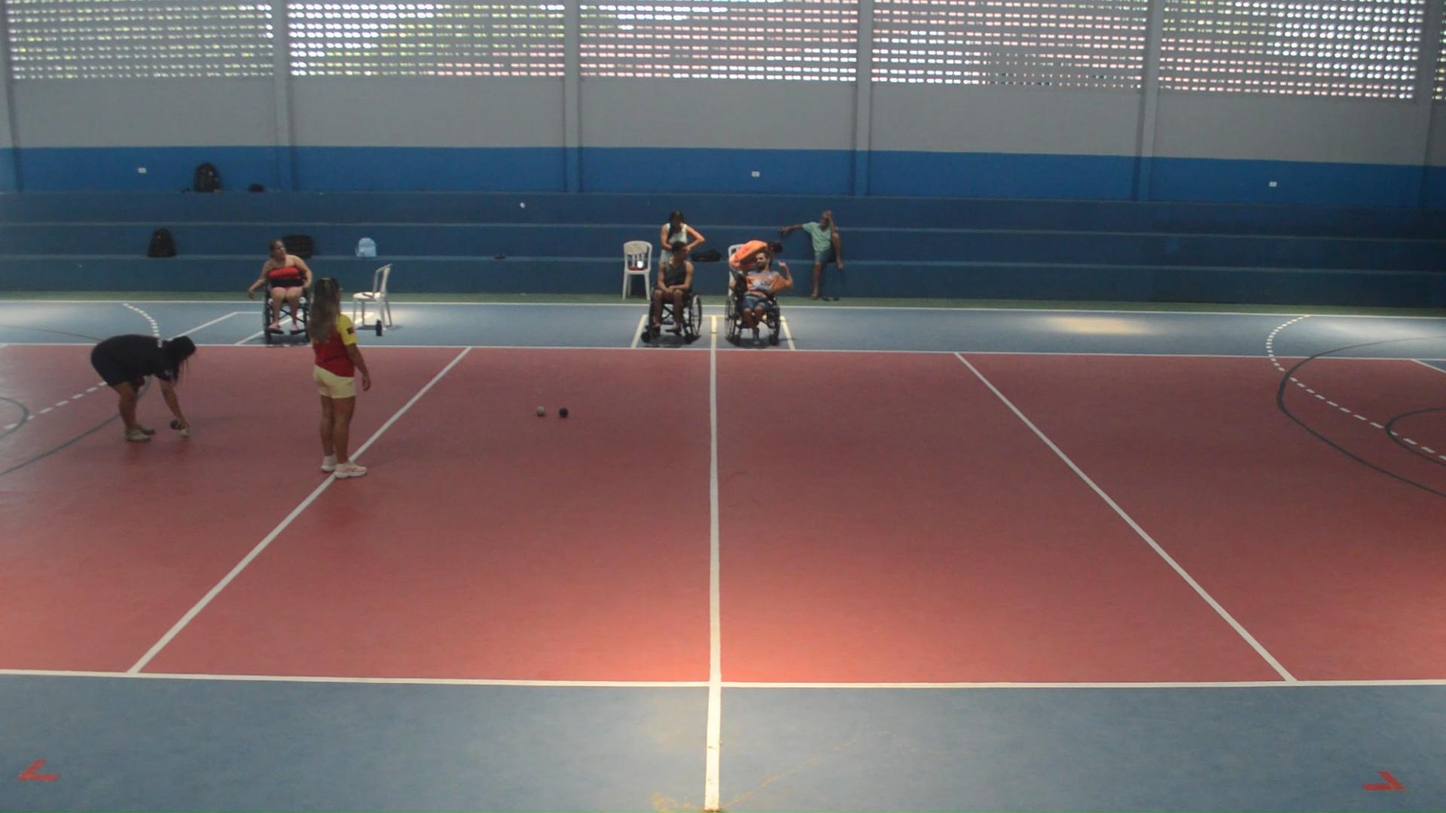white_ball: (534, 405, 547, 418), (557, 406, 569, 419)
